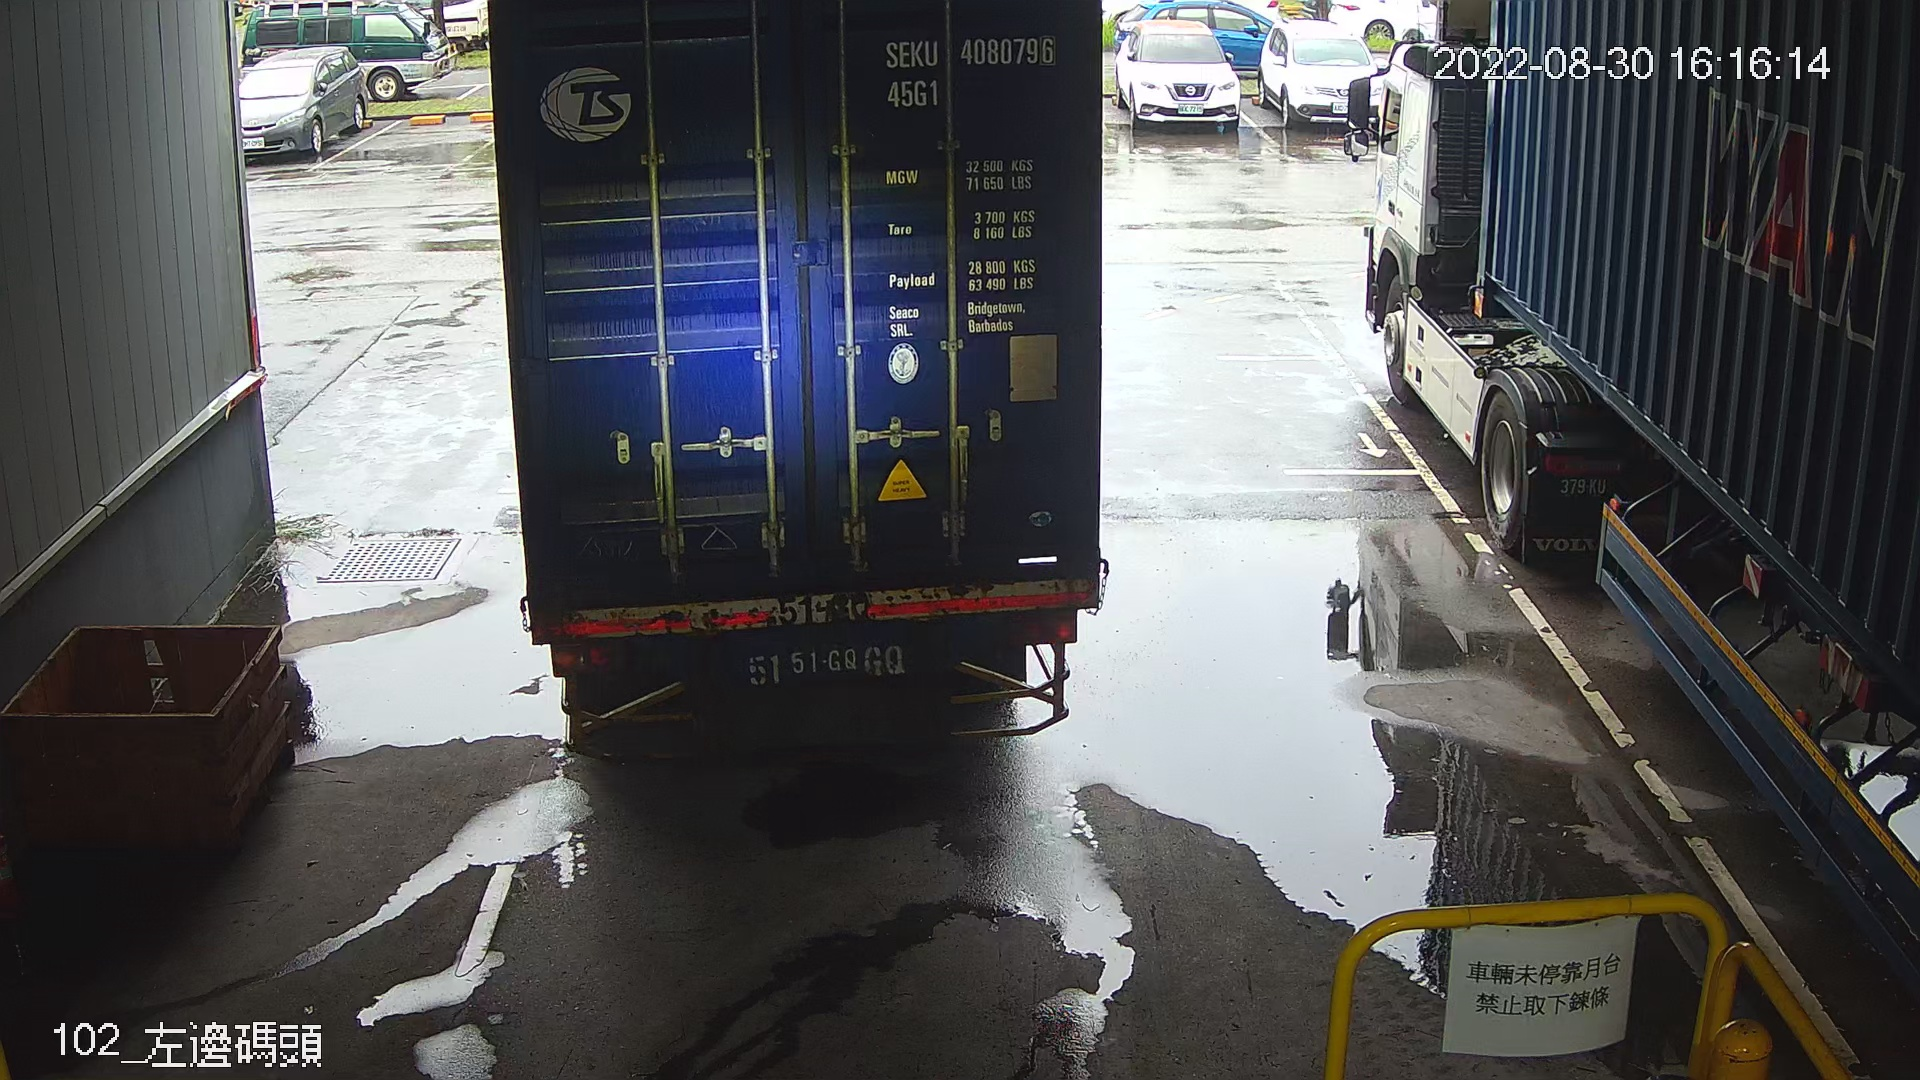container: (876, 26, 1065, 116)
